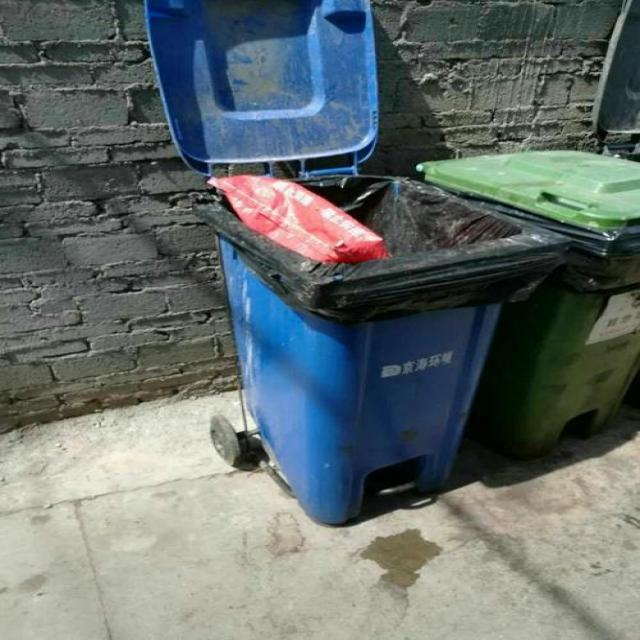garbage_bin: (416, 147, 639, 454)
overflow: (191, 173, 553, 521)
